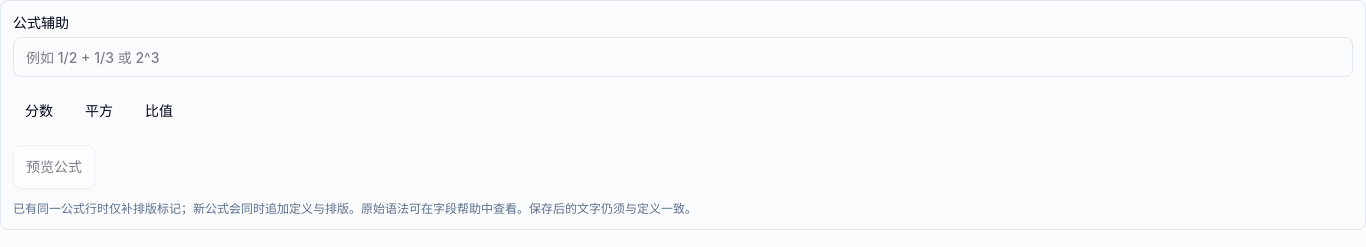
keeps editing enabled and ignores an old preview even if fetch resolves after cancellation
In the field labelled "公式辅助": (683, 57) x1=13 y1=37 x2=1353 y2=77, type "1/2"
Wait 400 ms
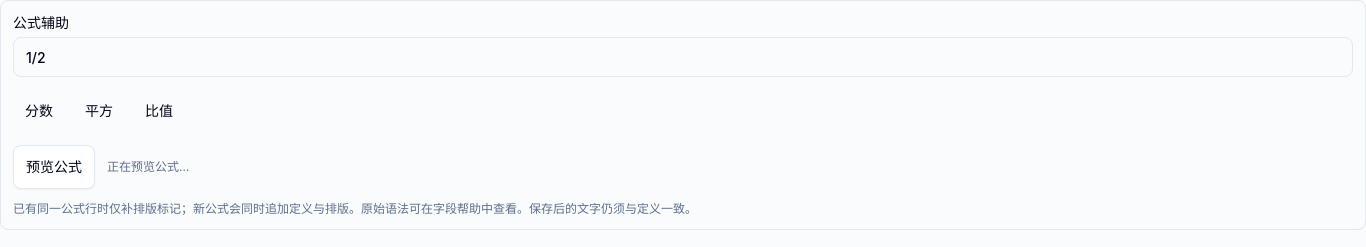
Replace the text in the field labelled "公式辅助" with "2^2": (683, 57) x1=13 y1=37 x2=1353 y2=77
Wait 400 ms
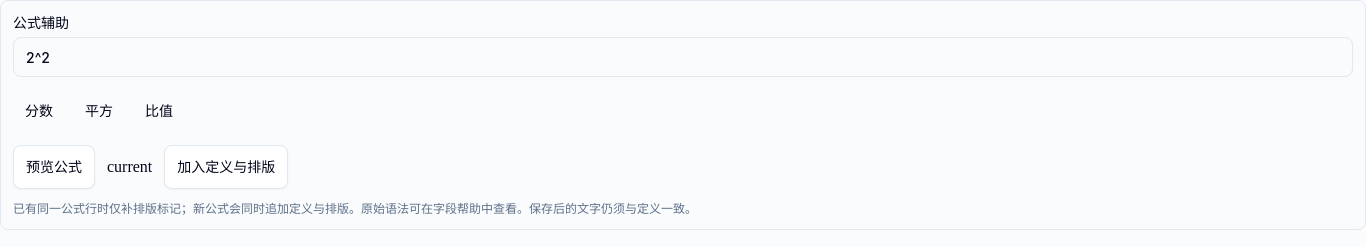
Expected: the text named "公式 current" is shown, x1=107 y1=155 x2=152 y2=179
